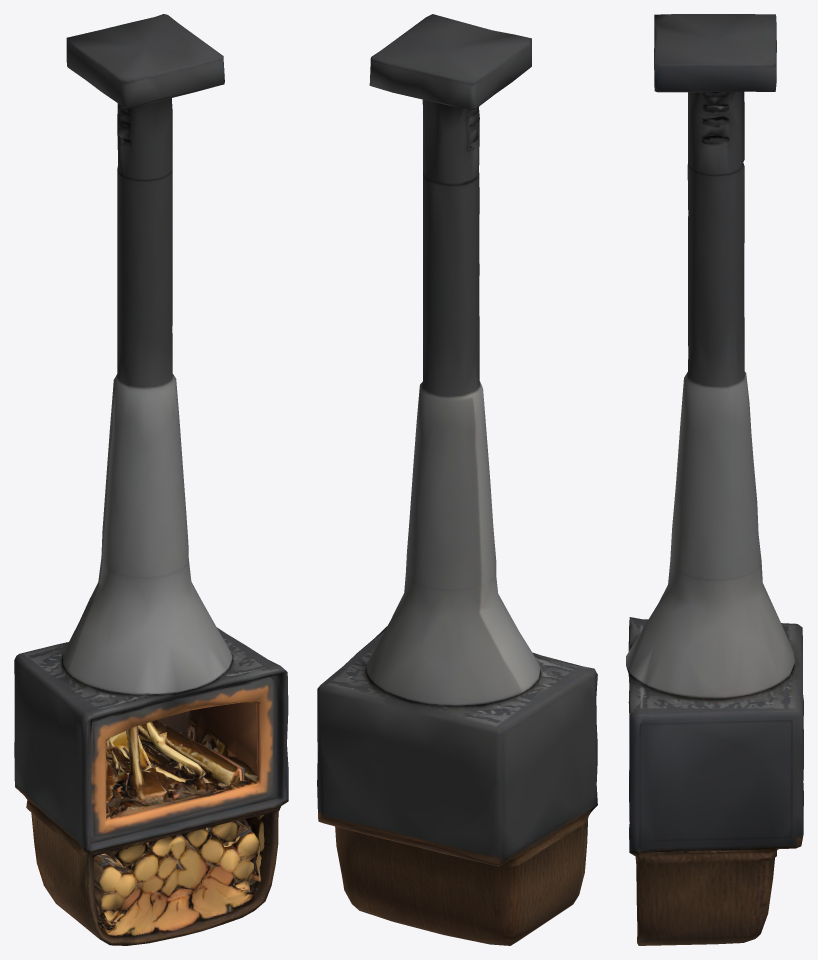
Rendered from hearth.glb.
3 renders of one model, left to right at view 1: azimuth 30°, elevation 25°; view 2: azimuth 150°, elevation 25°; view 3: azimuth 270°, elevation 25°, orthographic. The views are drawn at different scales.
Visible parts, largest first — view 1: Mesh1.0; view 2: Mesh1.0; view 3: Mesh1.0.
Part boxes in pixels (left/top/right/bottom): Mesh1.0: left=14, top=14, right=288, bottom=945; Mesh1.0: left=317, top=14, right=597, bottom=945; Mesh1.0: left=626, top=14, right=803, bottom=945.
Size of the model in its own units: 0.472 by 1.91 by 0.3505.
Materials: 1 (1 with a texture image).
